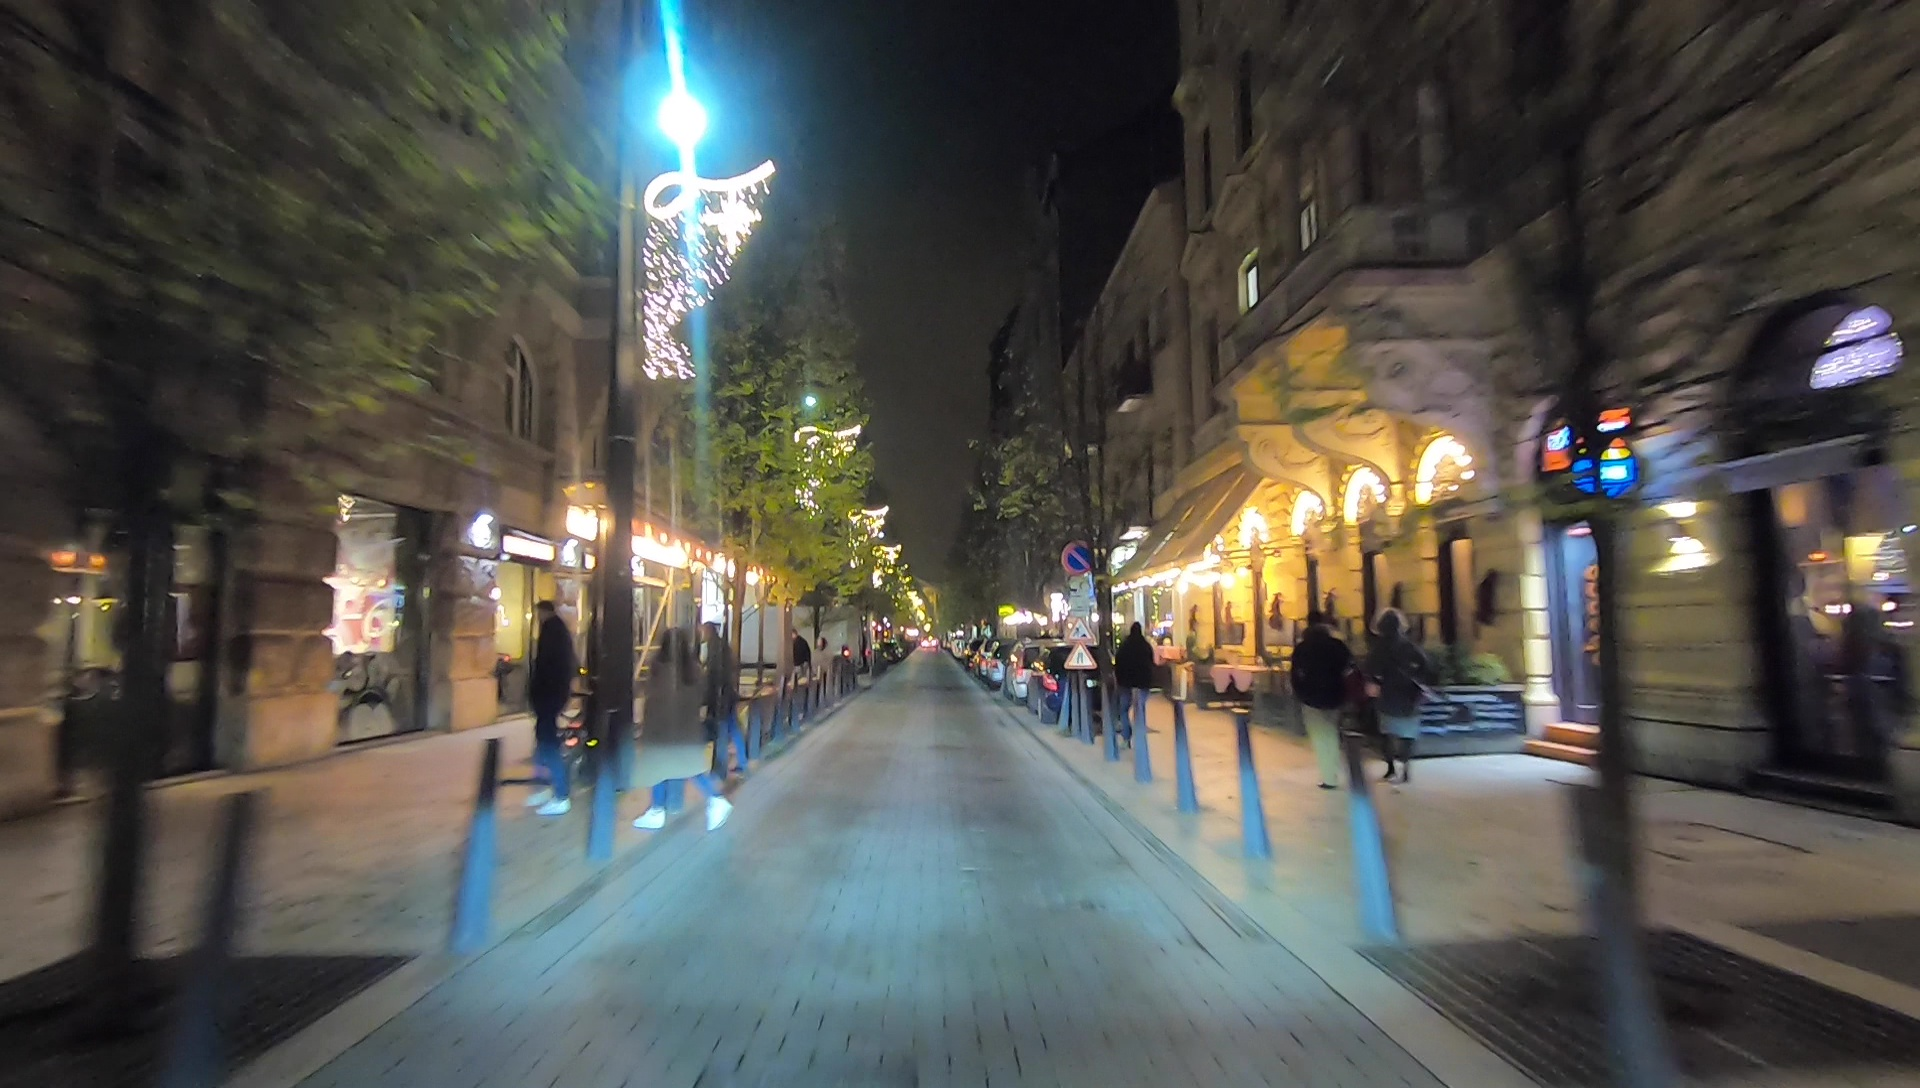person: (638, 623, 725, 834), (1288, 610, 1365, 791), (515, 599, 575, 815), (1367, 610, 1423, 778), (693, 619, 751, 771), (1114, 619, 1156, 736), (786, 630, 812, 699)
